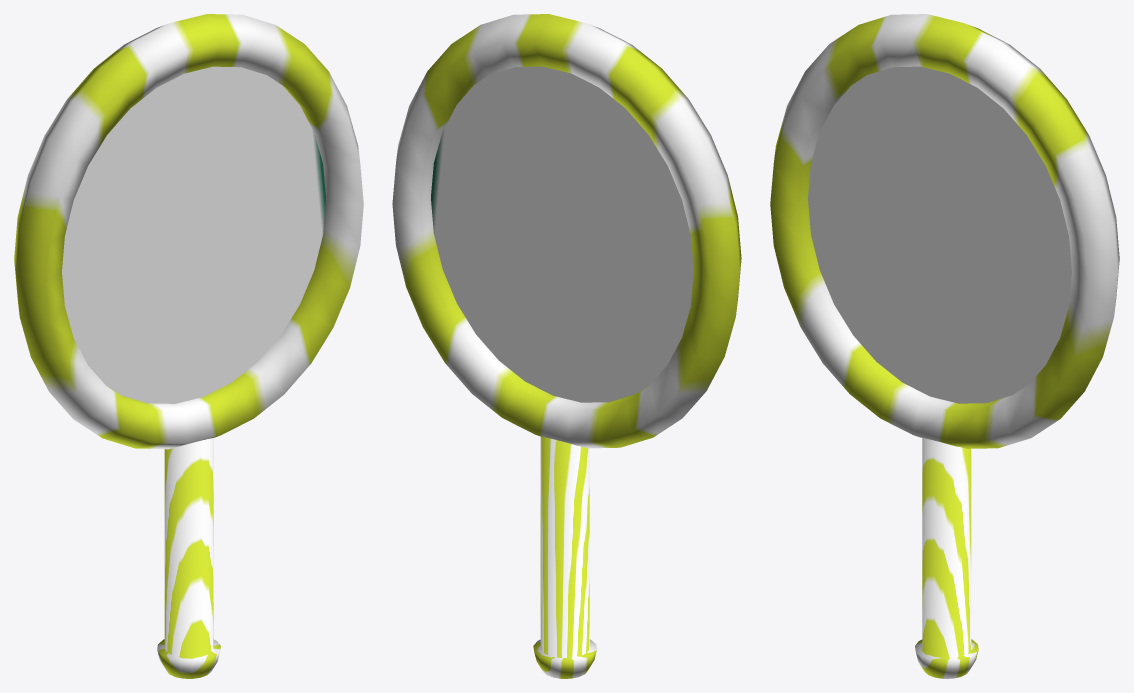
Rendered from Tennis racket.fbx.
The picture shows the model from 3 angles, left to right: view 1: azimuth 30°, elevation 25°; view 2: azimuth 150°, elevation 25°; view 3: azimuth 330°, elevation 25°; orthographic projection.
Parts seen in each view (by area): view 1: Circle.005, Cylinder.001; view 2: Circle.005, Cylinder.001; view 3: Circle.005, Cylinder.001.
Part boxes in pixels (x1=…): Circle.005: x1=62, y1=66, x2=325, y2=403; Cylinder.001: x1=14, y1=14, x2=363, y2=678; Circle.005: x1=431, y1=66, x2=693, y2=402; Cylinder.001: x1=392, y1=14, x2=741, y2=678; Circle.005: x1=808, y1=66, x2=1071, y2=403; Cylinder.001: x1=770, y1=14, x2=1119, y2=678.
Size of the model in its own units: 9129 by 16431 by 1492.
